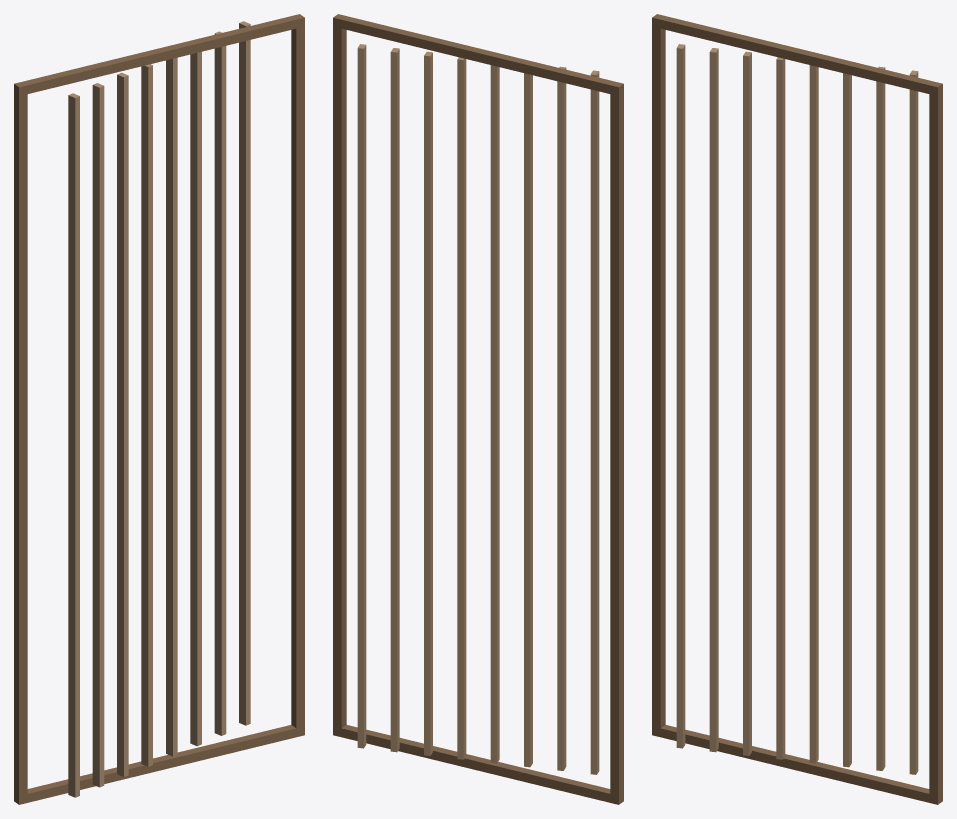
File: louver_screen.glb
3 views of the same model, side by side, from view 1: azimuth 30°, elevation 25°; view 2: azimuth 150°, elevation 25°; view 3: azimuth 330°, elevation 25° (orthographic).
Parts seen in each view (by area): view 1: Frame, Slat_1, Slat_6, Slat_0, Slat_2, Slat_3, Slat_4, Slat_5, Slat_7; view 2: Frame, Slat_7, Slat_6, Slat_4, Slat_3, Slat_1, Slat_0, Slat_5, Slat_2; view 3: Frame, Slat_0, Slat_1, Slat_3, Slat_4, Slat_6, Slat_7, Slat_2, Slat_5.
Part boxes in pixels (<box>): Frame: <box>14,14,304,804</box>; Slat_1: <box>92,83,104,787</box>; Slat_6: <box>214,31,226,735</box>; Slat_0: <box>68,93,79,797</box>; Slat_2: <box>117,72,128,776</box>; Slat_3: <box>141,64,152,766</box>; Slat_4: <box>166,57,177,756</box>; Slat_5: <box>190,51,201,746</box>; Slat_7: <box>239,21,250,725</box>; Frame: <box>333,14,623,804</box>; Slat_7: <box>357,44,366,748</box>; Slat_6: <box>390,48,399,752</box>; Slat_4: <box>457,57,466,759</box>; Slat_3: <box>490,65,499,763</box>; Slat_1: <box>557,66,566,770</box>; Slat_0: <box>590,70,599,774</box>; Slat_5: <box>424,51,432,755</box>; Slat_2: <box>524,73,532,767</box>; Frame: <box>652,14,942,804</box>; Slat_0: <box>676,44,685,748</box>; Slat_1: <box>709,48,718,752</box>; Slat_3: <box>776,57,785,759</box>; Slat_4: <box>809,65,818,763</box>; Slat_6: <box>876,66,885,770</box>; Slat_7: <box>909,70,918,774</box>; Slat_2: <box>743,51,751,755</box>; Slat_5: <box>843,73,851,767</box>.
Size of the model in its own units: 1 by 2.4 by 0.2234.
